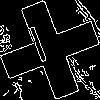I: (25, 25, 55, 73)
